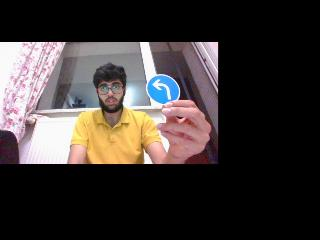left: (147, 74, 181, 102)
